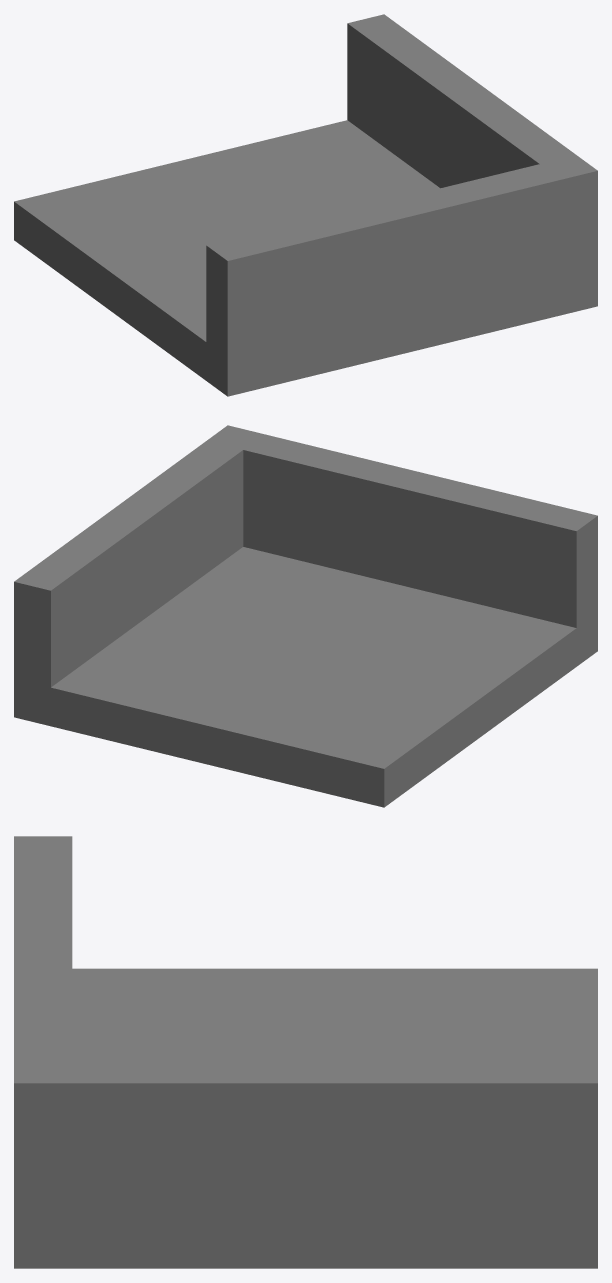
Rendered from GreyRoof_Corner_Small.glb.
3 views of the same model, one above another, from view 1: azimuth 30°, elevation 25°; view 2: azimuth 150°, elevation 25°; view 3: azimuth 270°, elevation 25° (orthographic). The views are drawn at different scales.
Visible parts, largest first — view 1: roof_flat_corner_small_grey; view 2: roof_flat_corner_small_grey; view 3: roof_flat_corner_small_grey.
Boxes of the visible parts, box(x1,y1,x2,y2) form: roof_flat_corner_small_grey: box(14, 14, 597, 396); roof_flat_corner_small_grey: box(14, 425, 597, 807); roof_flat_corner_small_grey: box(14, 836, 597, 1268).
Size of what is drawn, in the model's own units: 2 by 0.7 by 2.
1 material, 1 textured.
